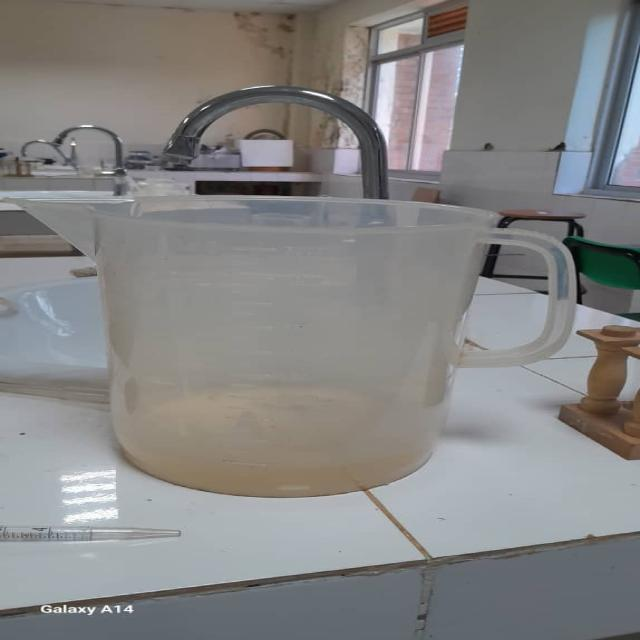Beakers: (6, 192, 596, 497)
